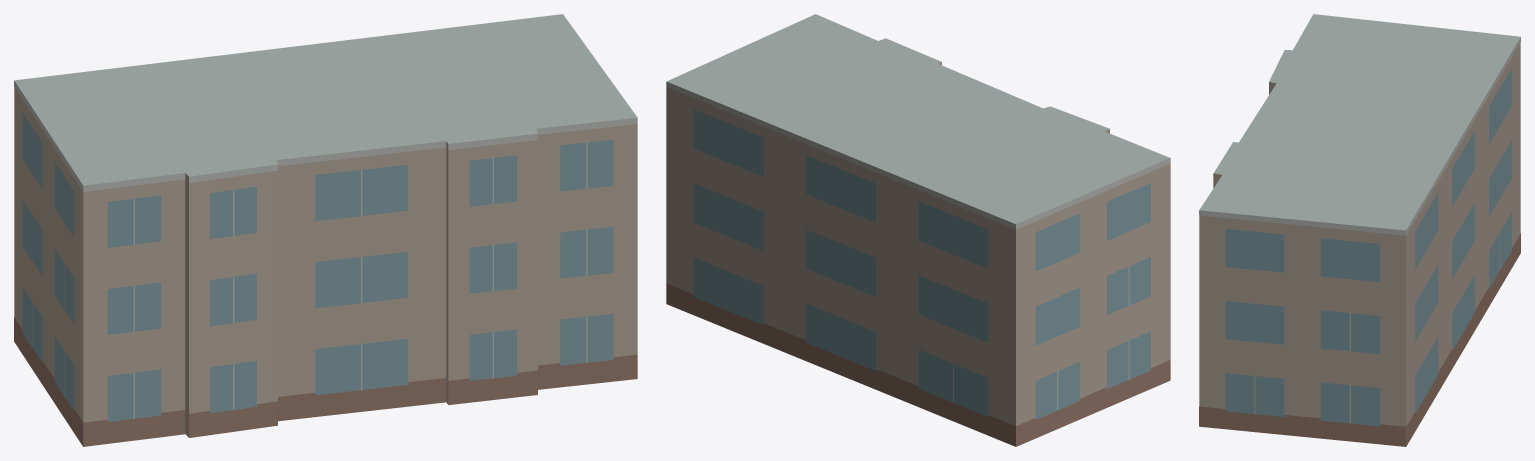
The model's file is survey-upis-32600424.glb.
3 views of the same model, side by side, from view 1: azimuth 30°, elevation 25°; view 2: azimuth 150°, elevation 25°; view 3: azimuth 270°, elevation 25° (orthographic). The views are drawn at different scales.
Parts seen in each view (by area): view 1: survey-upis-32600424.tmp; view 2: survey-upis-32600424.tmp; view 3: survey-upis-32600424.tmp.
Boxes of the visible parts, x1=… form: survey-upis-32600424.tmp: x1=14, y1=14, x2=637, y2=446; survey-upis-32600424.tmp: x1=666, y1=14, x2=1170, y2=446; survey-upis-32600424.tmp: x1=1199, y1=14, x2=1520, y2=446.
Bounding box in the file's own units: 21.69 × 10.1 × 13.62.
